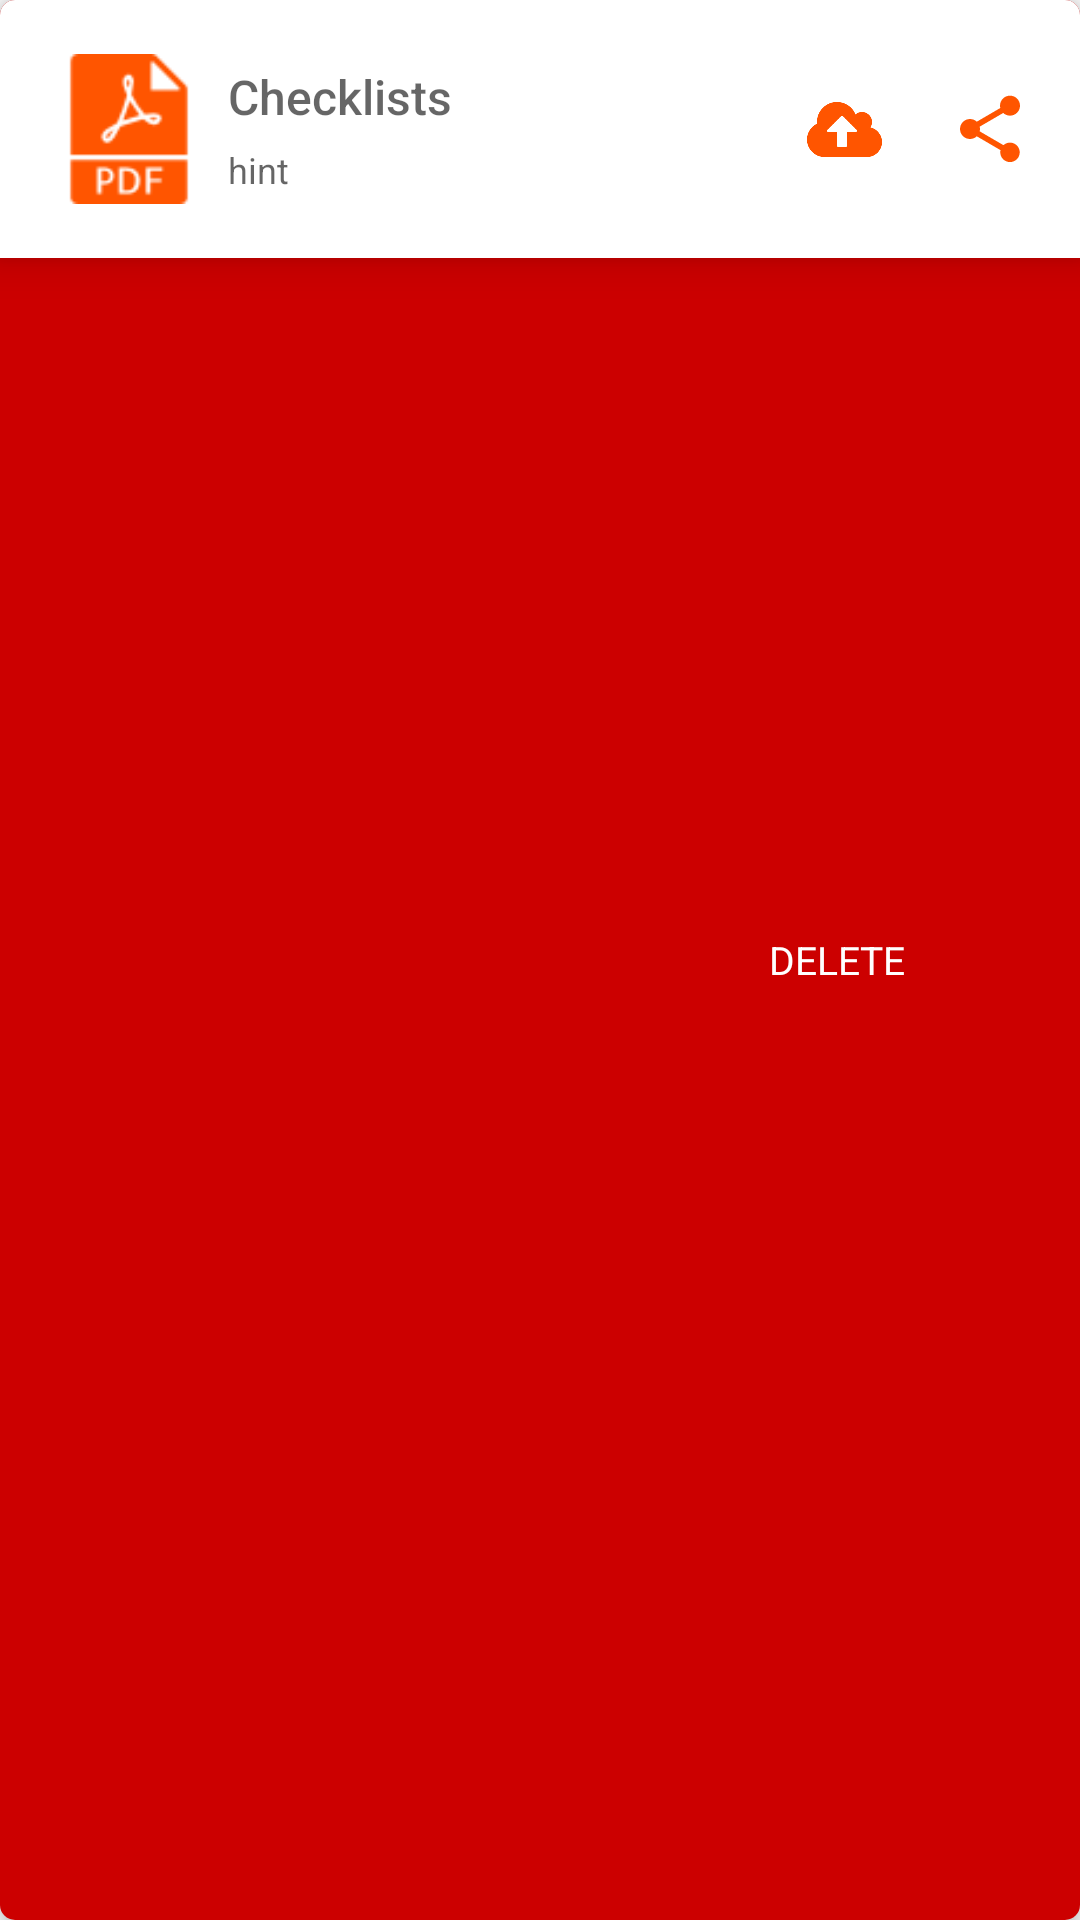

Icons on this 1080×1920 Android screen, each with its box as (x1, y1, x2, y2):
cloud: (807, 102, 882, 157)
share: (960, 95, 1020, 162)
